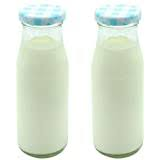milk: (10, 6, 72, 154), (89, 8, 147, 155)
